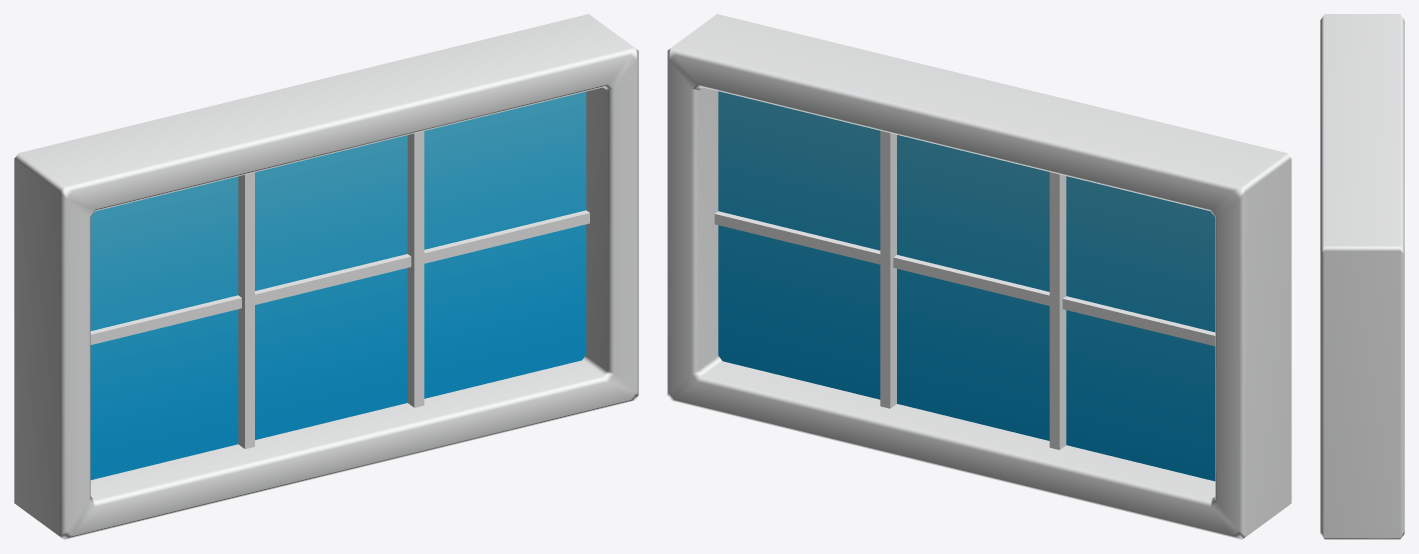
File: Window_White_06.glb
3 renders of one model, left to right at view 1: azimuth 30°, elevation 25°; view 2: azimuth 150°, elevation 25°; view 3: azimuth 270°, elevation 25°, orthographic. The views are drawn at different scales.
Visible parts, largest first — view 1: Window_White_06; view 2: Window_White_06; view 3: Window_White_06.
Part boxes in pixels (x1,y1,x2,y2): Window_White_06: (14,14,638,539); Window_White_06: (667,14,1291,539); Window_White_06: (1320,14,1404,539).
Bounding box in the file's own units: 2.64 × 1.54 × 0.4.
2 materials, 2 textured.
